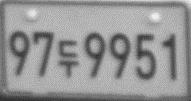1: (161, 34, 178, 80)
5: (134, 33, 156, 80)
7: (31, 30, 55, 77)
9: (108, 32, 132, 80), (83, 31, 106, 78), (8, 30, 30, 78)
두: (57, 39, 79, 78)
